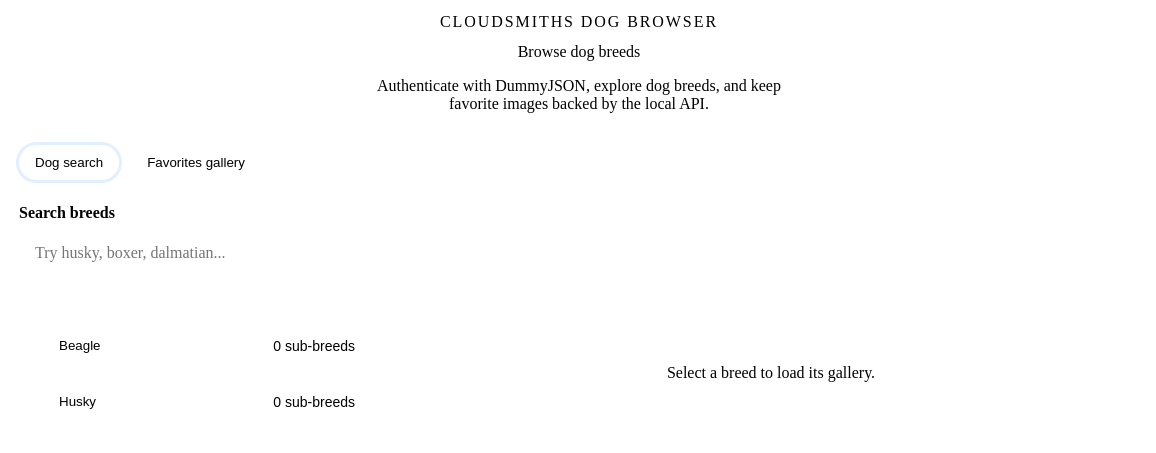
Test: App integration flows › shows a clear empty state when breed filtering returns no matches
Expected: the tab "Dog search" is shown, 19,145 -> 119,180
In the search field: [579, 253] box 19,230 -> 1139,276, type "not-a-real-breed"
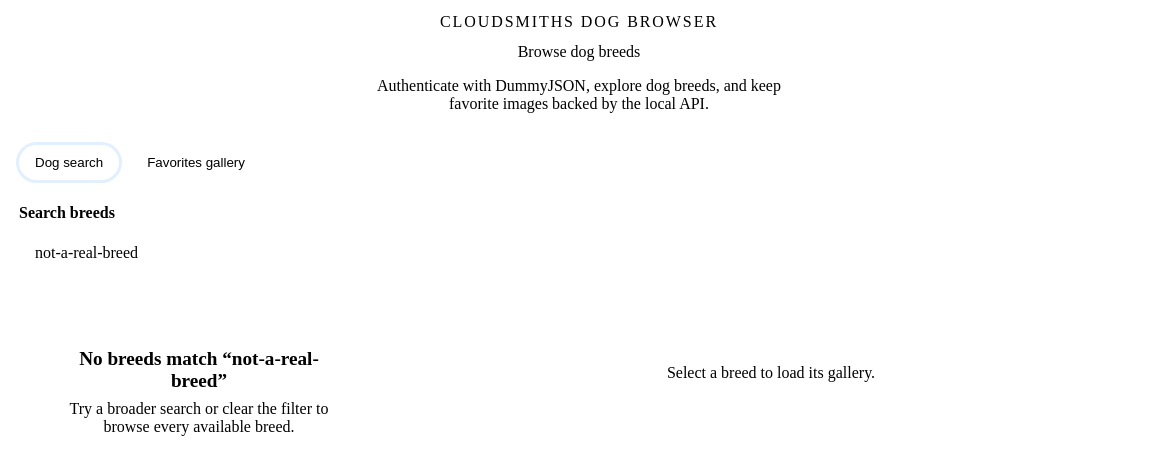
Expected: the heading "No breeds match “not-a-real-breed”" is shown, 67,348 -> 331,392
